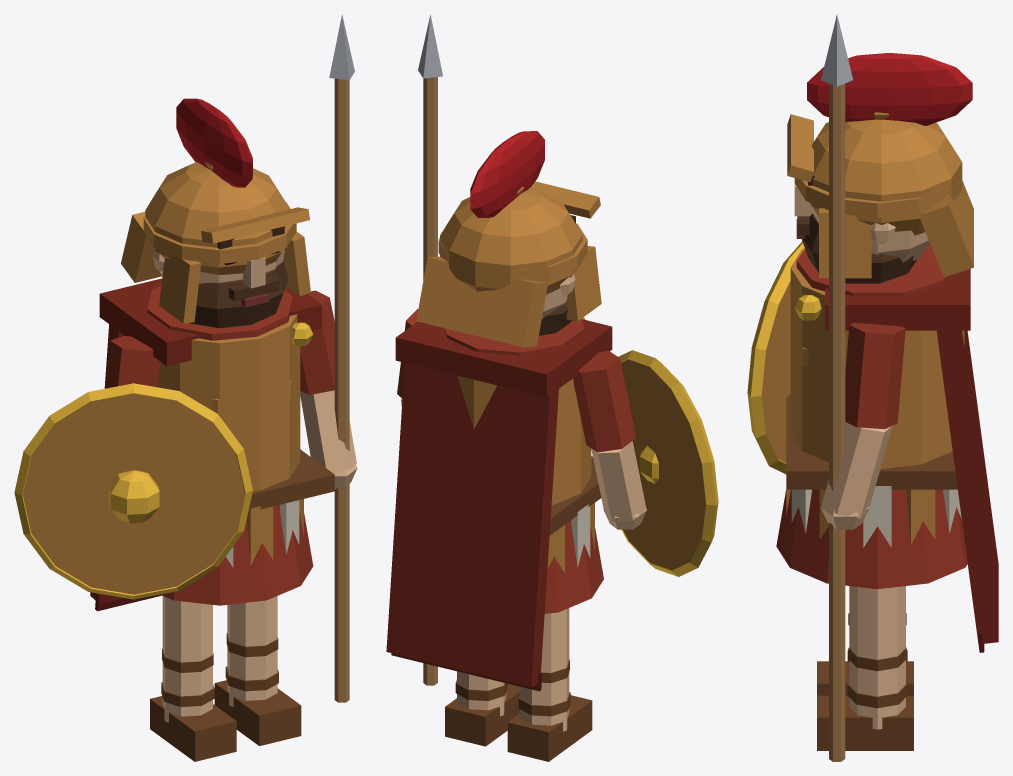
The model's file is romulus.glb.
3 views of the same model, side by side, from view 1: azimuth 30°, elevation 25°; view 2: azimuth 150°, elevation 25°; view 3: azimuth 270°, elevation 25° (orthographic). The views are drawn at different scales.
Parts seen in each view (by area): view 1: reka_l, cialo, glowa, reka_p, noga_l, noga_p, peleryna; view 2: peleryna, glowa, reka_l, cialo, noga_l, reka_p, noga_p; view 3: cialo, glowa, reka_p, noga_p, peleryna, reka_l, noga_l.
Boxes of the visible parts, box(x1,y1,x2,y2) form: reka_l: box(14, 336, 252, 599); cialo: box(99, 278, 334, 605); glowa: box(121, 98, 310, 328); reka_p: box(300, 14, 357, 702); noga_l: box(150, 596, 236, 761); noga_p: box(214, 596, 301, 745); peleryna: box(90, 324, 161, 611); peleryna: box(386, 363, 558, 691); glowa: box(416, 131, 601, 347); reka_l: box(573, 350, 718, 576); cialo: box(395, 317, 612, 613); noga_l: box(507, 608, 592, 761); reka_p: box(397, 14, 442, 685); noga_p: box(445, 671, 519, 746); cialo: box(776, 243, 970, 589); glowa: box(787, 53, 973, 283); reka_p: box(821, 14, 905, 761); noga_p: box(817, 586, 913, 750); peleryna: box(936, 330, 998, 652); reka_l: box(747, 241, 804, 474); noga_l: box(817, 613, 913, 695).
Bounding box in the file's own units: 1.01 × 2.08 × 0.6201.
